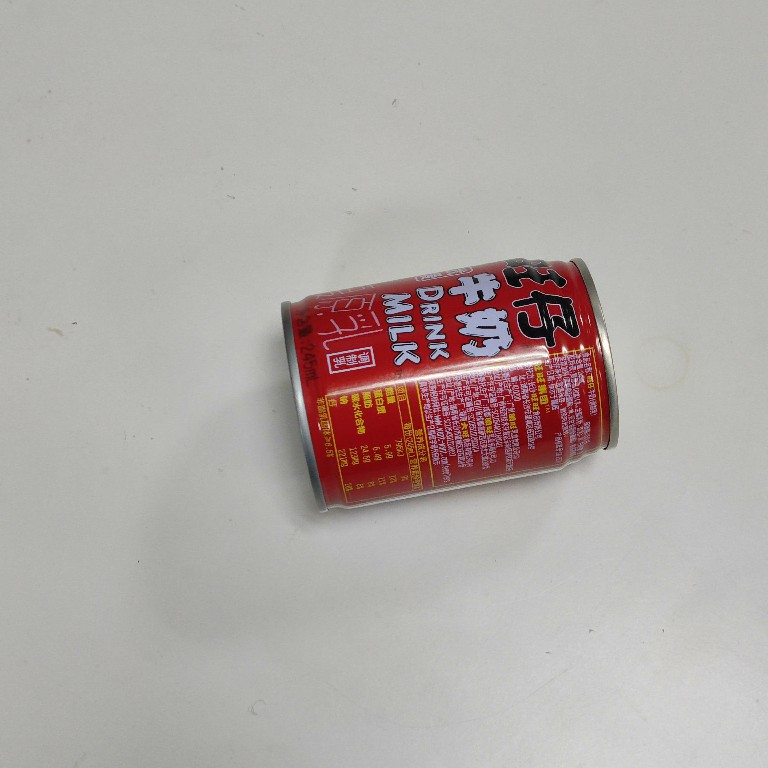can: (275, 252, 627, 519)
